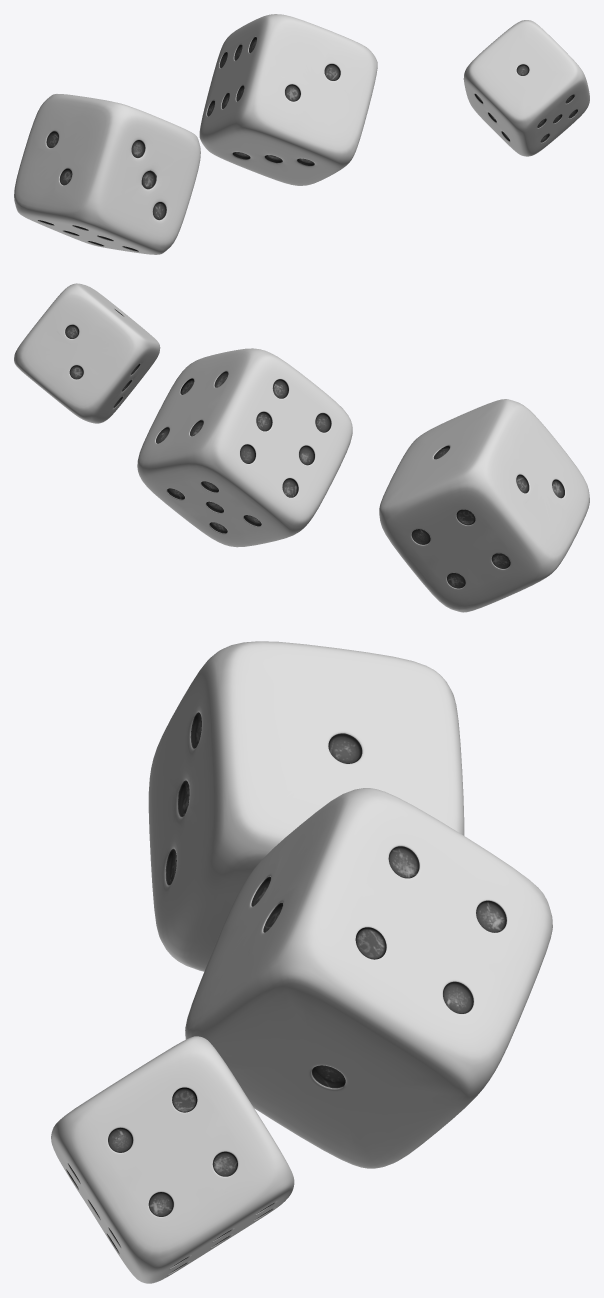
3 renders of one model, top to bottom at view 1: azimuth 30°, elevation 25°; view 2: azimuth 150°, elevation 25°; view 3: azimuth 270°, elevation 25°, orthographic. The views are drawn at different scales.
Parts seen in each view (by area): view 1: dice; view 2: dice; view 3: dice.
Boxes of the visible parts, bbox=[...] form: dice: bbox=[14, 14, 589, 254]; dice: bbox=[14, 283, 589, 612]; dice: bbox=[51, 641, 552, 1283].
Size of the model in its own units: 0.1504 by 0.0512 by 0.063.
2 materials, 1 textured.
